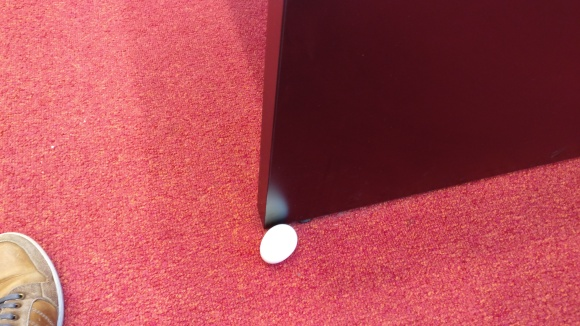egg: (258, 223, 298, 265)
